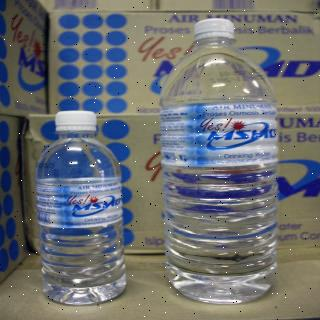Plastic-bottle: (150, 17, 292, 307), (26, 109, 136, 303)
